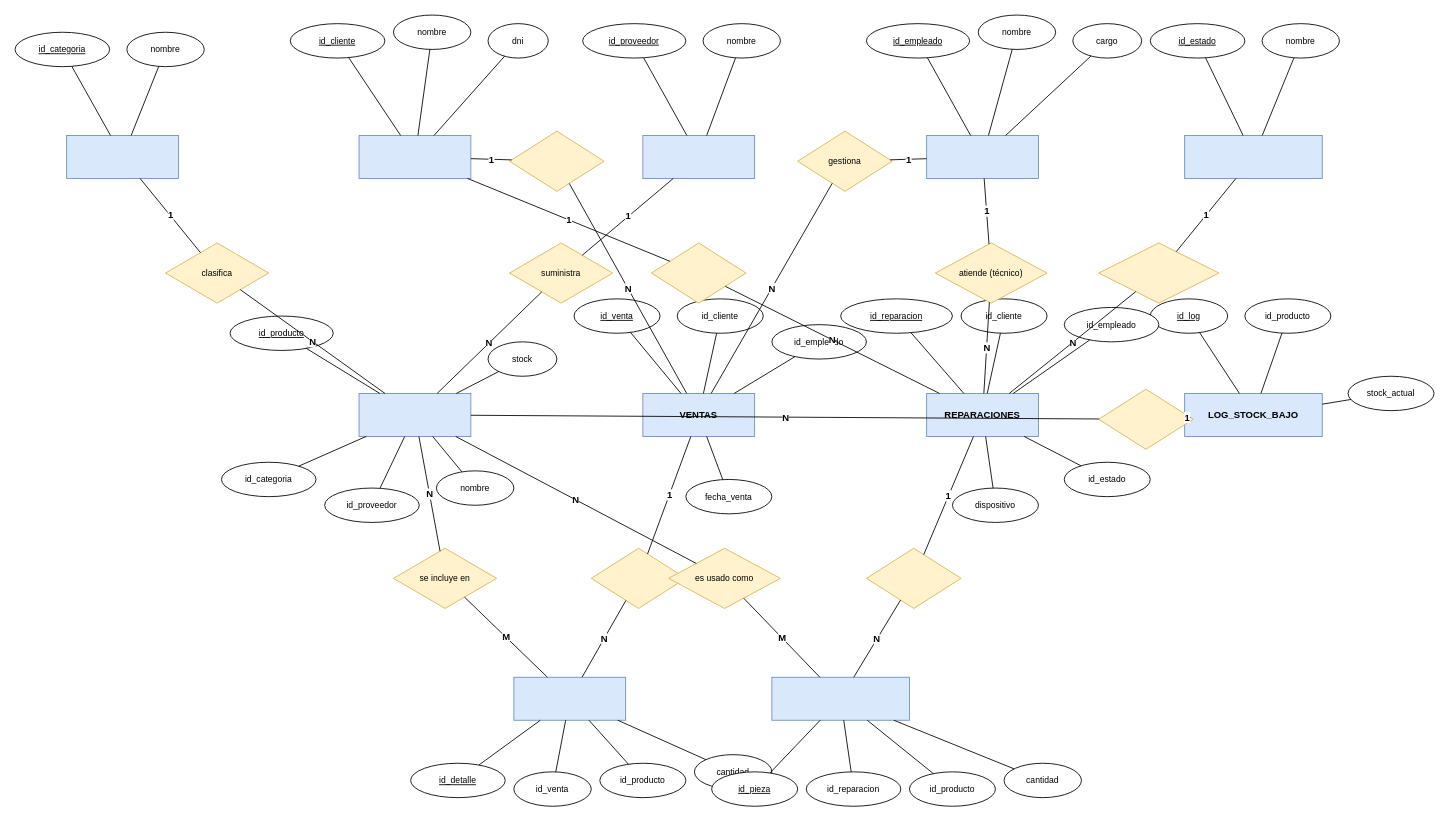
The diagram is 1449 pixels wide and 821 high, and some of its shapes have lost their labels. The box of each missing label's shape, as (x1, y1, x2, y2) in pixels:
CATEGORIAS: (66, 135, 178, 178)
CLIENTES: (358, 135, 471, 178)
contiene: (590, 547, 686, 608)
define estado de: (1098, 242, 1219, 303)
DETALLE_VENTAS: (513, 676, 626, 720)
EMPLEADOS: (926, 135, 1038, 178)
ESTADOS_REPARACION: (1184, 135, 1322, 178)
PIEZAS_REPARACION: (771, 676, 909, 720)
PRODUCTOS: (358, 393, 471, 436)
PROVEEDORES: (642, 135, 755, 178)
realiza: (509, 130, 604, 191)
registra: (1098, 388, 1193, 449)
solicita: (651, 242, 746, 303)
utiliza: (866, 547, 961, 608)
